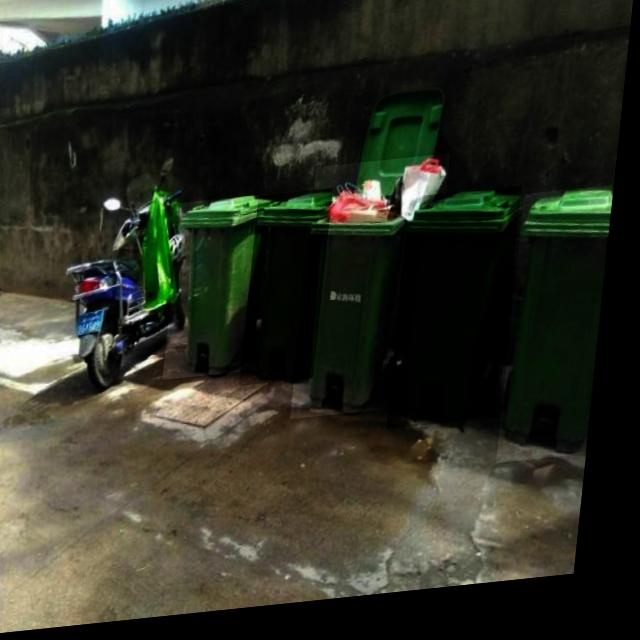garbage_bin: (396, 197, 527, 438), (507, 199, 619, 475), (171, 200, 275, 384), (248, 196, 337, 392)
overflow: (300, 164, 454, 427)
